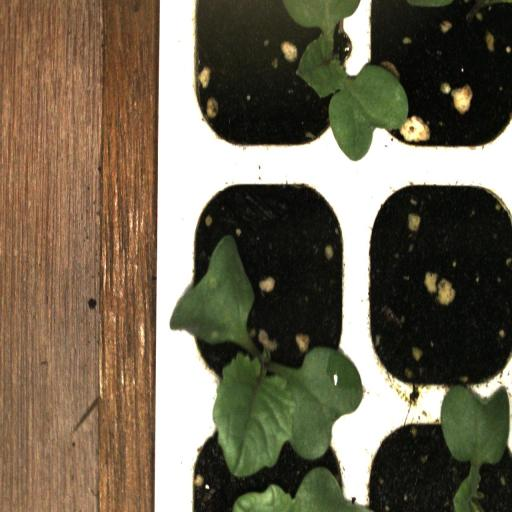Folha: (283, 0, 409, 161), (441, 384, 512, 512), (232, 465, 372, 512)
Germinacao: (175, 167, 360, 420)
